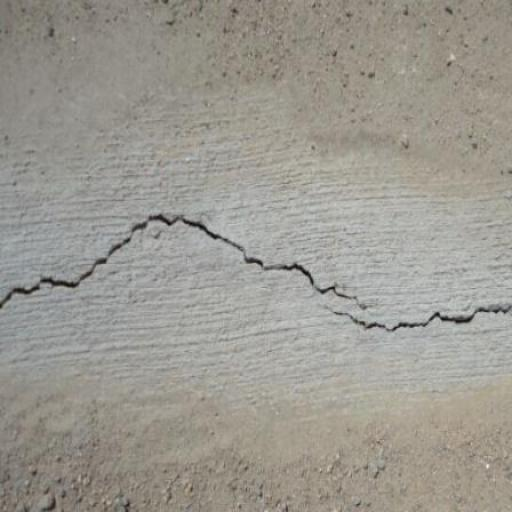spalling: (1, 207, 510, 338)
